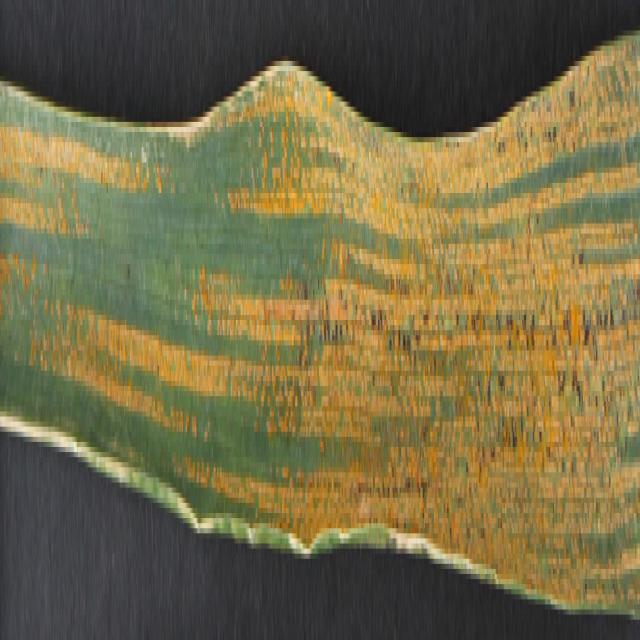leaf rust: (0, 20, 640, 589)
